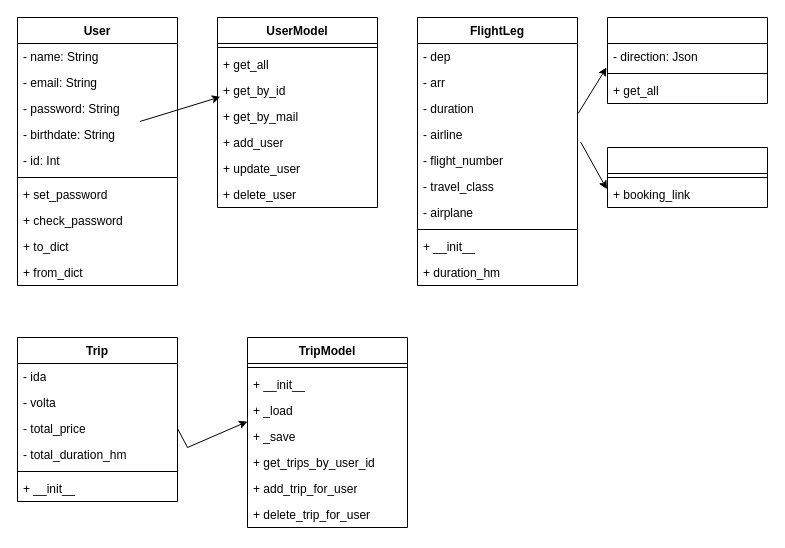
Image size: 785x548. Some labels were removed from this diagram. Each missing label, with the box of its shape:
FlightModel: (606, 16, 768, 104)
FlightOffer: (606, 146, 768, 208)
